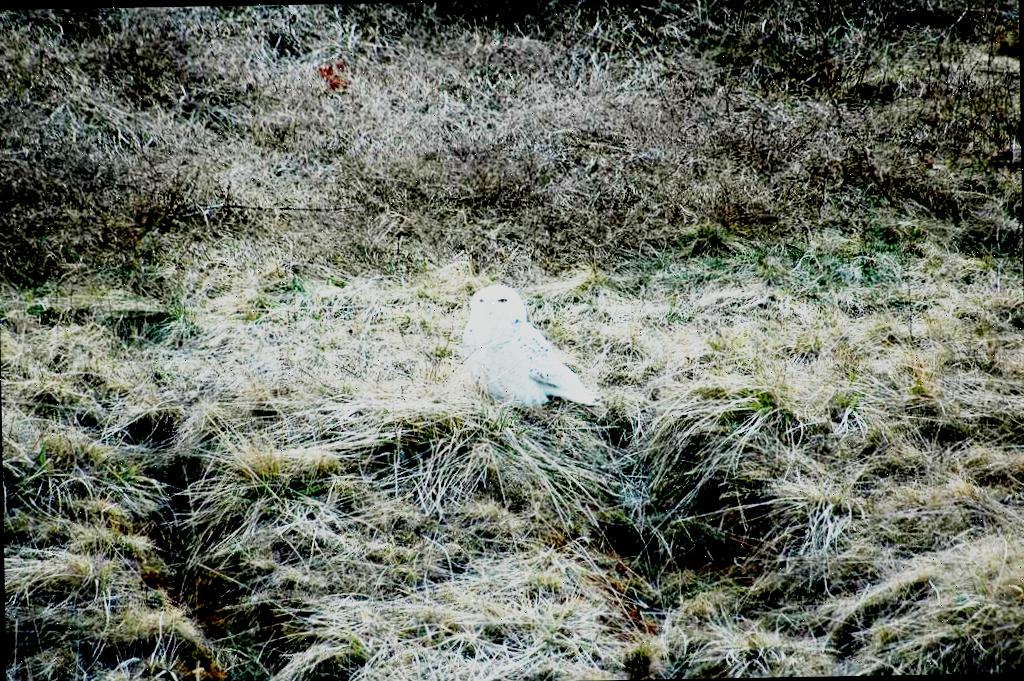Owl: (458, 280, 598, 412)
